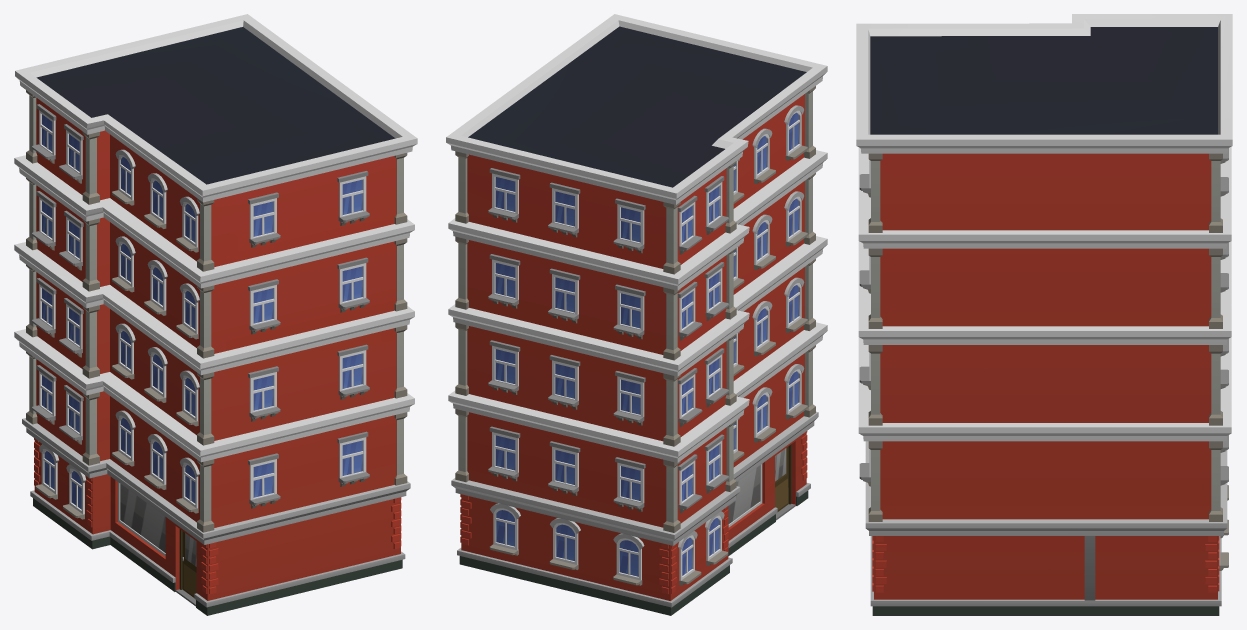
File: Building_1_5_M.fbx
3 views of the same model, side by side, from view 1: azimuth 30°, elevation 25°; view 2: azimuth 150°, elevation 25°; view 3: azimuth 270°, elevation 25° (orthographic). The views are drawn at different scales.
Visible parts, largest first — view 1: Building_1_5_M; view 2: Building_1_5_M; view 3: Building_1_5_M.
Part boxes in pixels (<box>): Building_1_5_M: <box>14,14,417,615</box>; Building_1_5_M: <box>446,14,827,615</box>; Building_1_5_M: <box>856,14,1232,615</box>.
Size of the model in its own units: 847 by 1501 by 1067.
